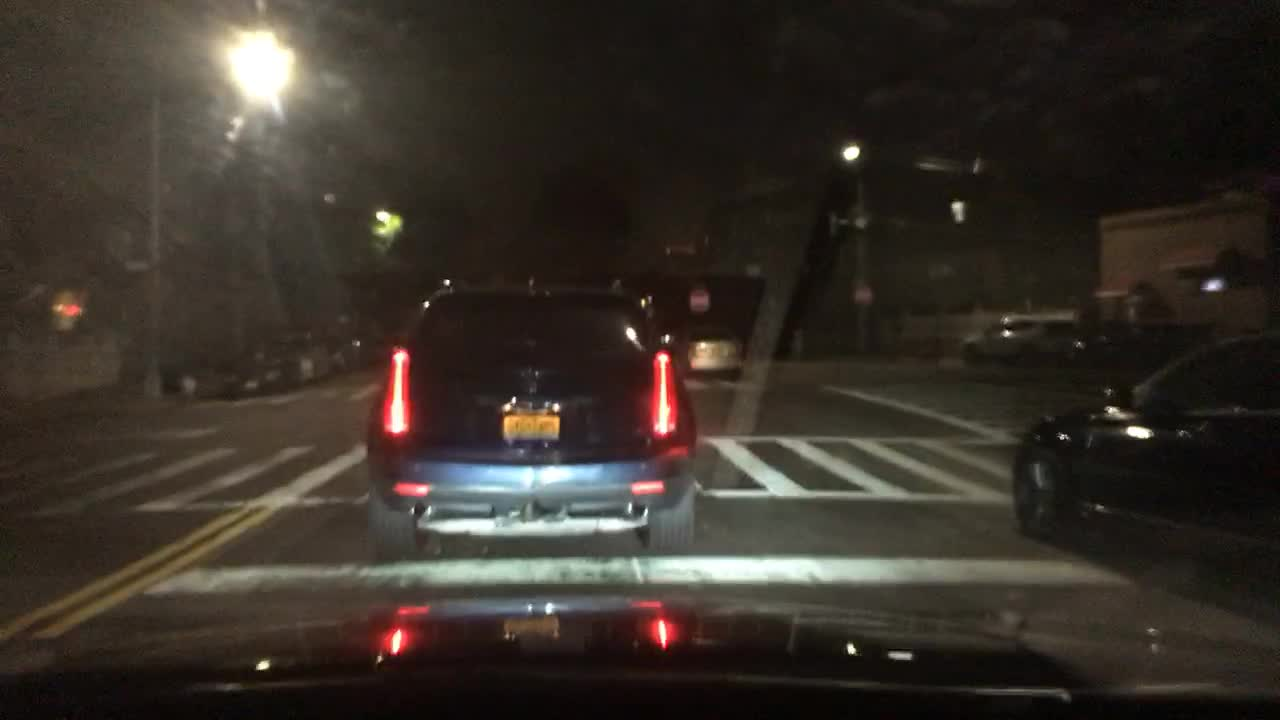car: (361, 274, 701, 554), (1007, 311, 1278, 566), (634, 263, 763, 366), (167, 341, 287, 401), (964, 316, 1082, 368), (284, 327, 334, 383), (329, 320, 370, 368)
